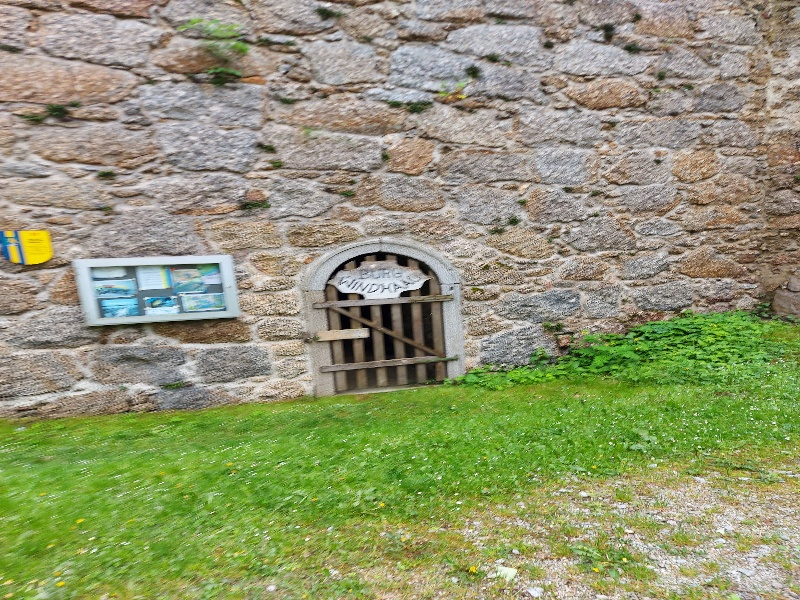dungeon: (290, 223, 477, 415)
